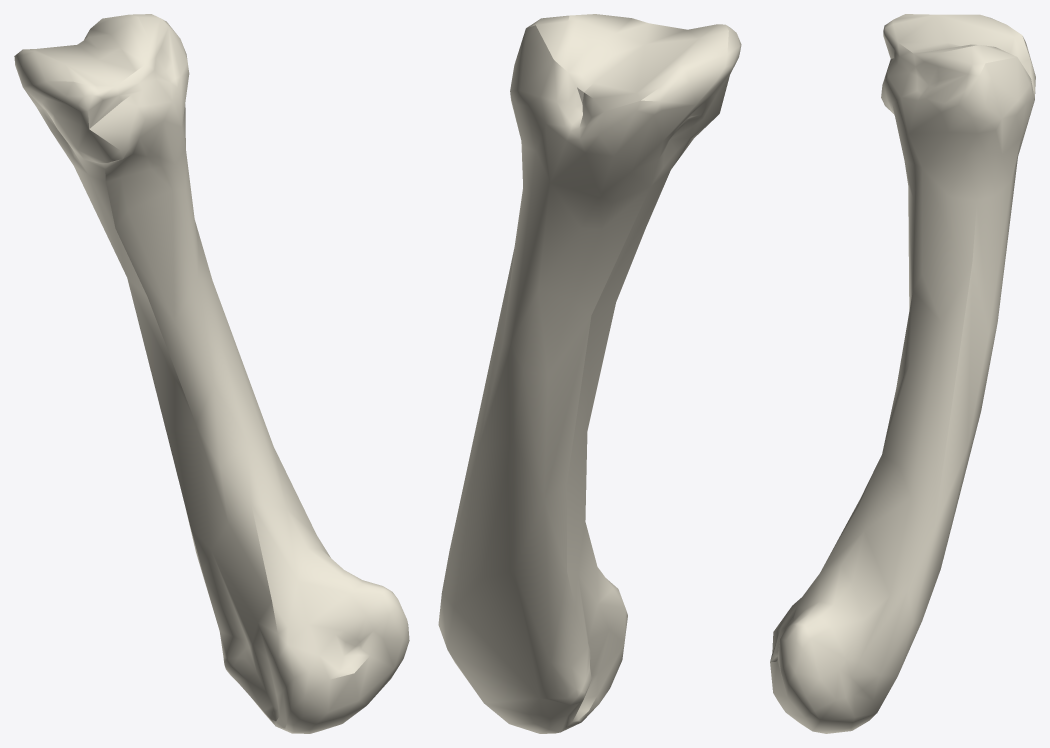
Rendered from fma24467_fj6354.glb.
3 views of the same model, side by side, from view 1: azimuth 30°, elevation 25°; view 2: azimuth 150°, elevation 25°; view 3: azimuth 270°, elevation 25° (orthographic). The views are drawn at different scales.
Parts seen in each view (by area): view 1: FMA24467_FJ6354; view 2: FMA24467_FJ6354; view 3: FMA24467_FJ6354.
Part boxes in pixels (box(x1,y1,x2,y2)): FMA24467_FJ6354: box(14, 14, 409, 733); FMA24467_FJ6354: box(438, 14, 741, 733); FMA24467_FJ6354: box(770, 14, 1035, 733).
Bounding box in the file's own units: 0.0309 × 0.068 × 0.0257.
